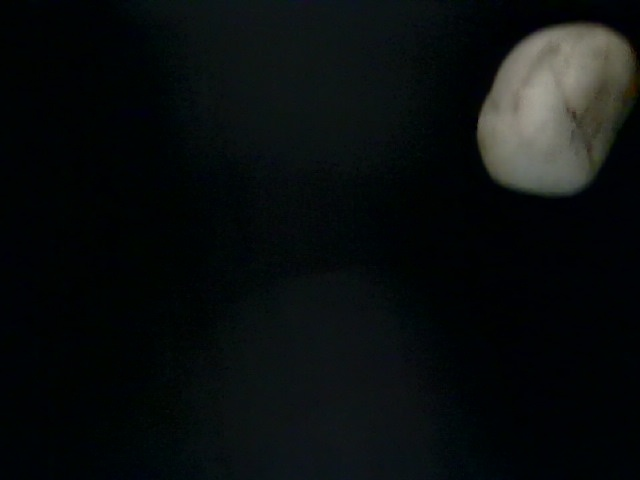QTLJ: (95, 214, 346, 416)
